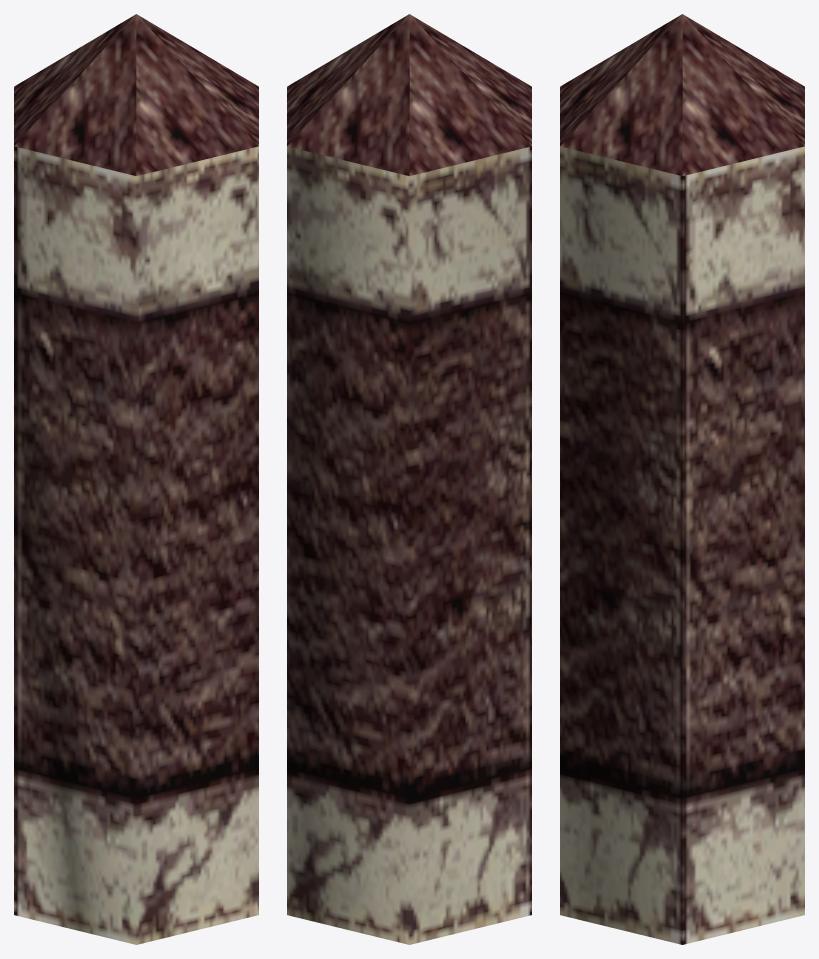
The model's file is Stake.obj.
3 views of the same model, side by side, from view 1: azimuth 30°, elevation 25°; view 2: azimuth 150°, elevation 25°; view 3: azimuth 270°, elevation 25° (orthographic).
Bounding box in the file's own units: 5 × 17 × 4.33.
Materials: 2 (2 with a texture image).
